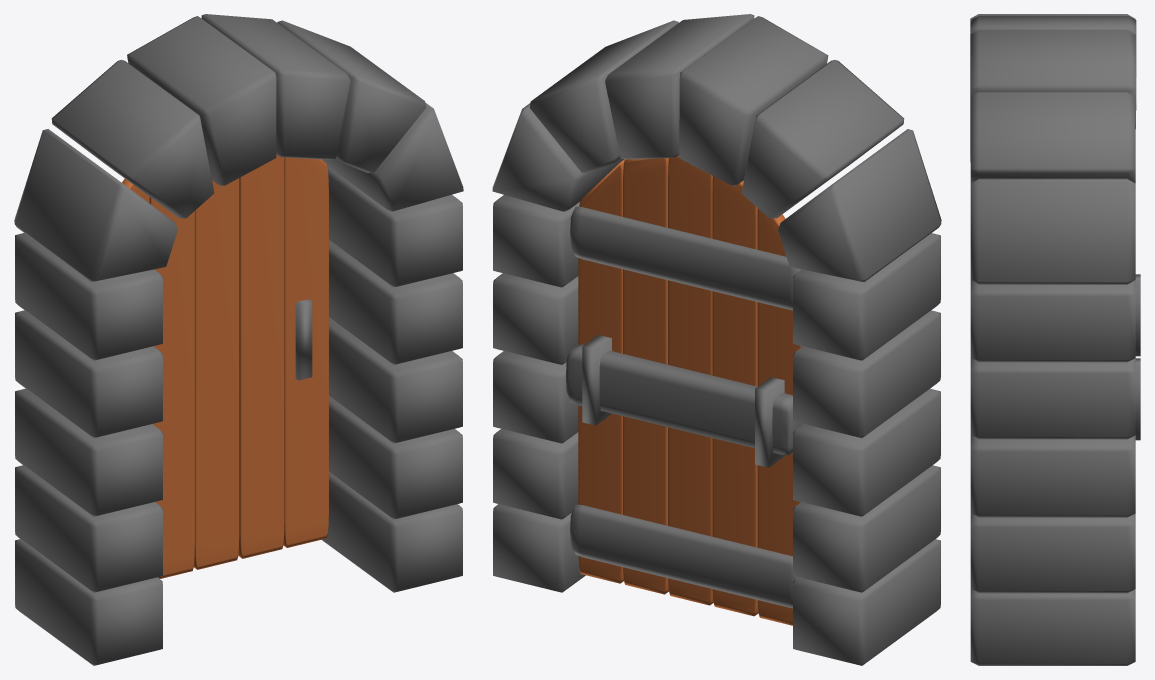
Rendered from AS_Castle_Door.fbx.
The picture shows the model from 3 angles, left to right: view 1: azimuth 30°, elevation 25°; view 2: azimuth 150°, elevation 25°; view 3: azimuth 270°, elevation 25°; orthographic projection.
Visible parts, largest first — view 1: Cube; view 2: Cube; view 3: Cube.
Part boxes in pixels (x1,y1,x2,y2): Cube: (14,14,463,665); Cube: (492,14,941,665); Cube: (970,14,1140,665).
Size of the model in its own units: 880 by 1241 by 349.
